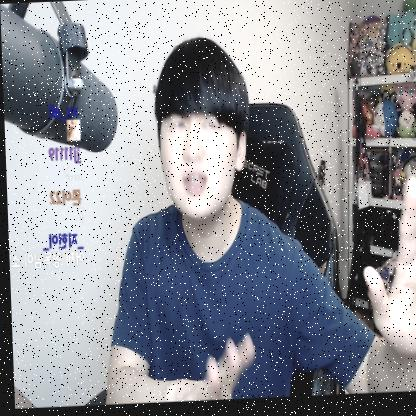streamer: (91, 31, 416, 406)
